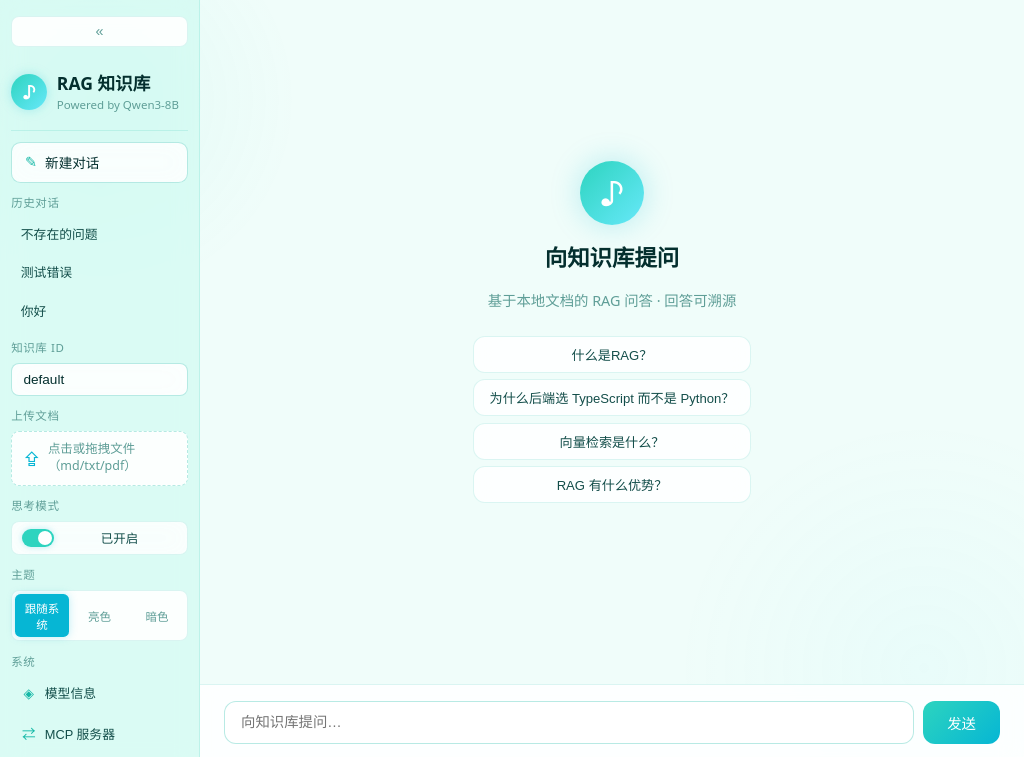
Test: M3 流式问答页 › 网络失败：显示无法连接后端
This screenshot has width=1024, height=757.
Type "x" into the field with placeholder "向知识库提问…" at [569, 722], box [224,701,914,744]
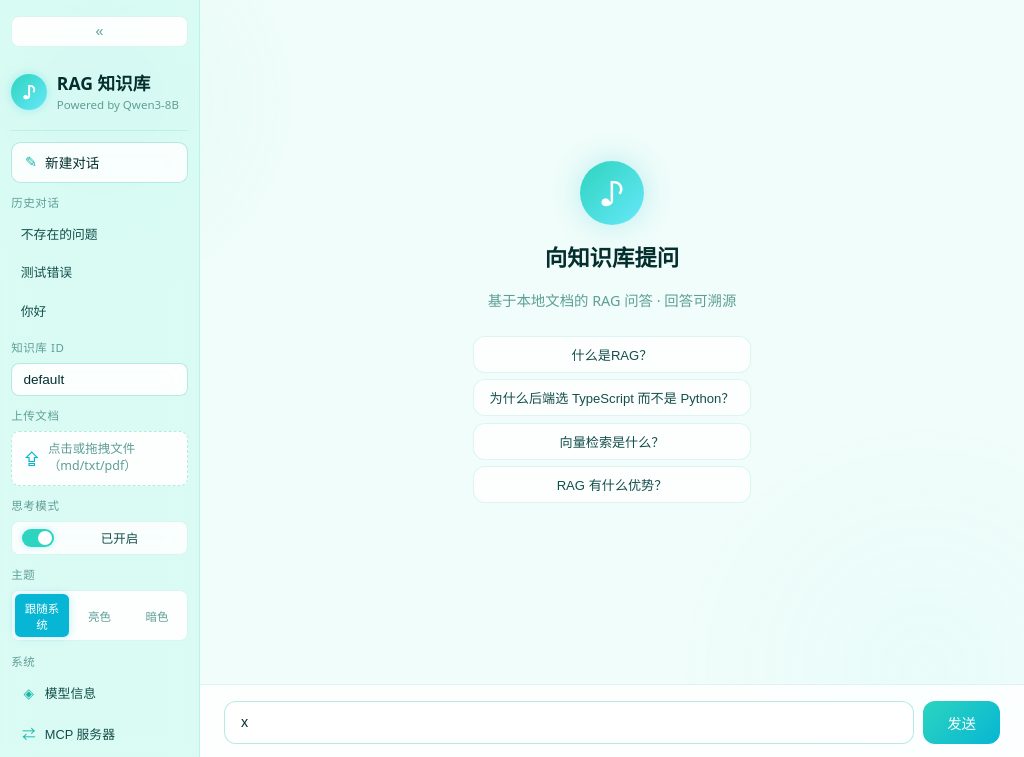
Click the button "发送" at [962, 722], box [923,701,1000,744]
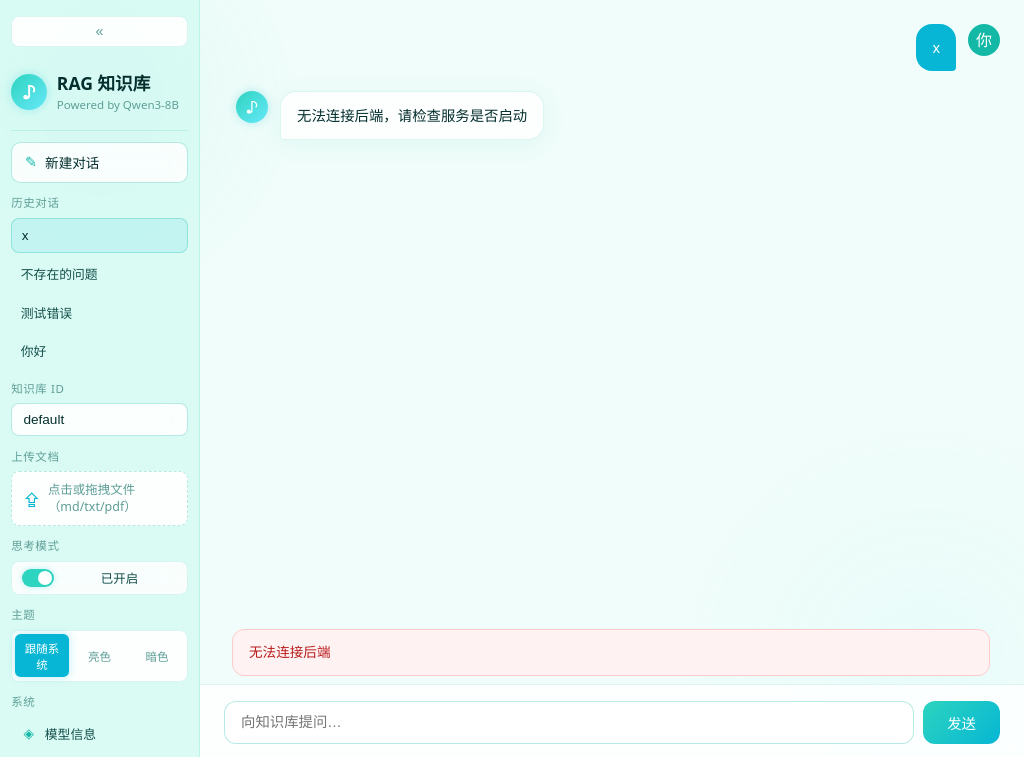
Expected: the text "无法连接后端，请检查服务是否启动" is shown, [280,91,544,140]
